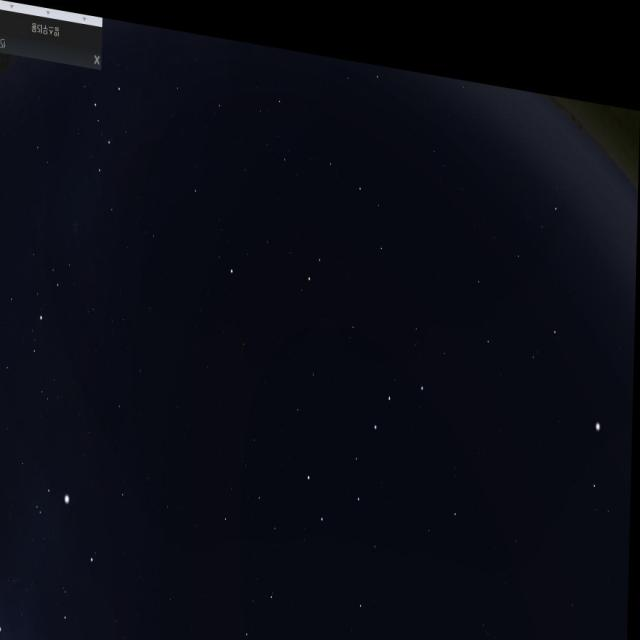cassiopeia: (85, 52, 141, 236)
ursa_major: (305, 335, 429, 531)
